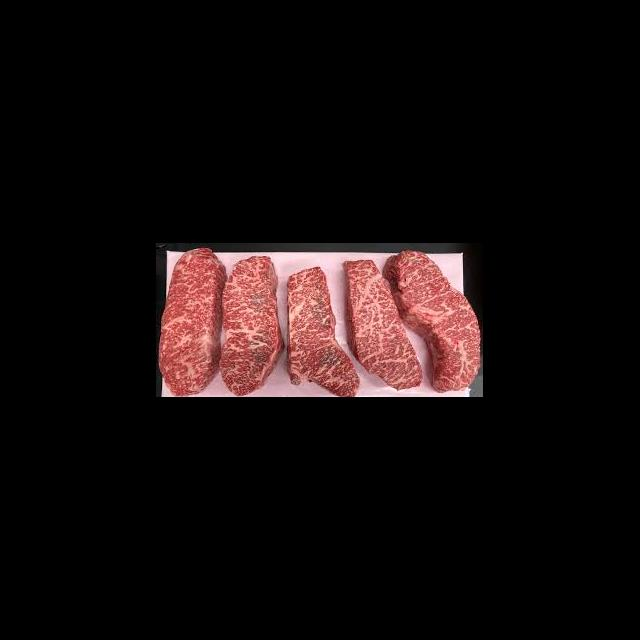beef: (388, 248, 482, 391), (342, 255, 423, 389), (160, 245, 224, 396), (289, 264, 360, 396), (223, 257, 284, 395)
